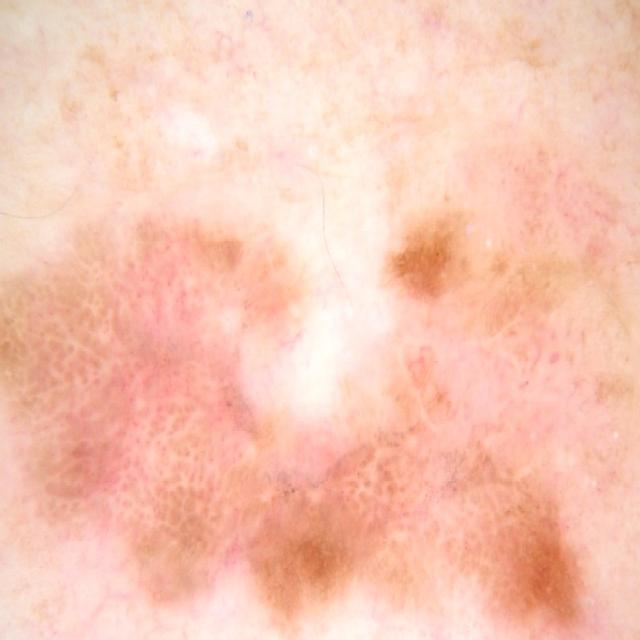Melanoma: (0, 171, 629, 639)
